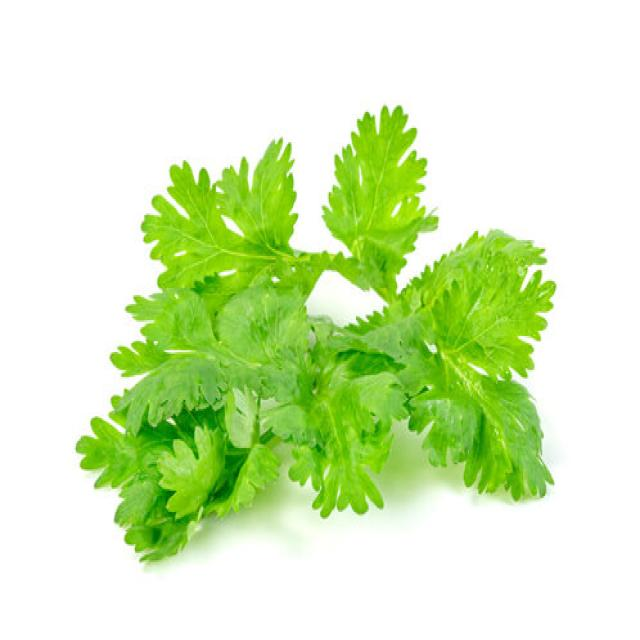Coriander Leaves: (74, 101, 556, 564)
